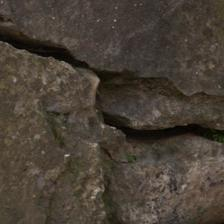Crack: (33, 74, 74, 149), (74, 107, 128, 152)
